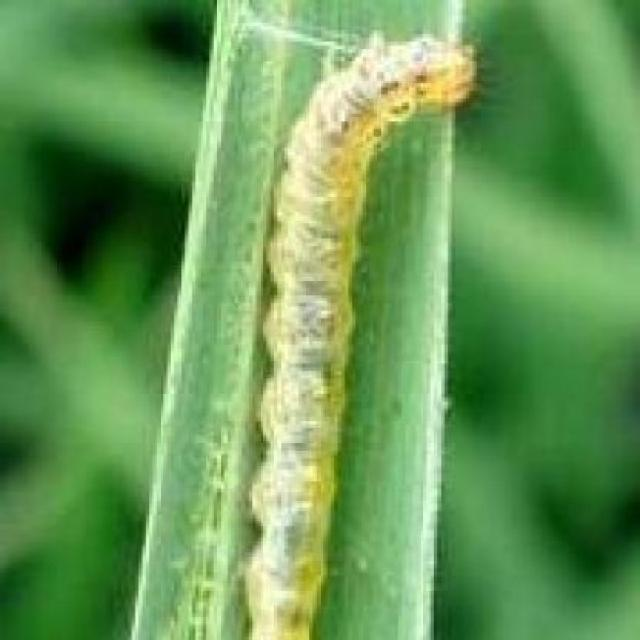leaf-folder: (217, 14, 489, 640)
